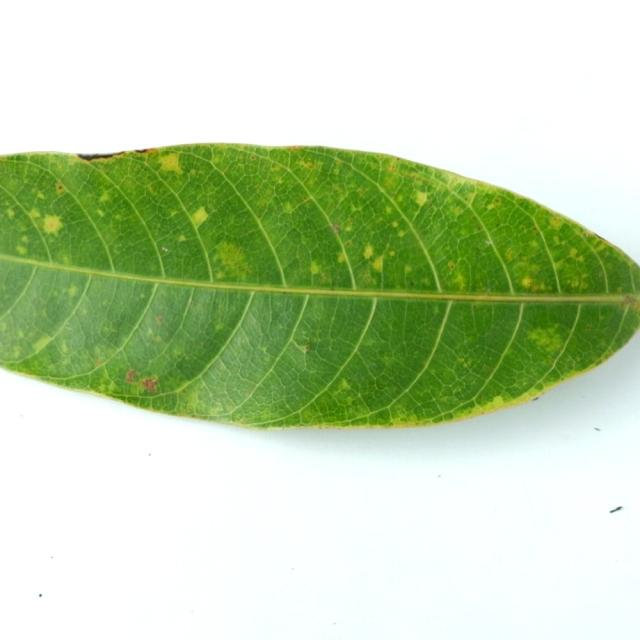Mango: (0, 145, 639, 426)
Powdery_Mildew: (168, 331, 231, 384), (212, 240, 252, 277), (526, 325, 562, 351), (157, 153, 183, 173), (181, 387, 202, 411), (41, 214, 64, 234), (484, 395, 510, 412), (619, 293, 640, 313), (32, 334, 54, 353), (190, 206, 209, 227), (368, 251, 387, 271), (450, 270, 468, 291), (101, 320, 121, 336), (413, 189, 428, 206), (142, 378, 158, 392), (403, 410, 420, 423), (134, 147, 161, 155), (98, 190, 111, 204), (297, 340, 312, 352), (338, 378, 351, 391), (362, 245, 374, 259), (310, 260, 321, 275), (379, 353, 394, 364), (520, 276, 533, 288), (15, 244, 28, 256), (171, 346, 184, 358), (125, 369, 136, 383), (110, 318, 124, 329), (29, 208, 41, 220), (550, 216, 562, 228), (67, 284, 78, 297), (282, 202, 295, 213), (336, 252, 347, 264), (504, 249, 515, 261), (568, 247, 578, 258), (486, 201, 497, 211), (214, 321, 225, 331), (12, 347, 22, 358), (343, 396, 355, 405), (331, 223, 340, 235), (285, 146, 305, 151), (6, 208, 15, 219), (152, 334, 163, 343), (586, 232, 598, 240), (404, 264, 413, 274), (155, 315, 164, 325), (302, 161, 313, 169), (259, 344, 268, 353), (177, 234, 186, 242), (397, 230, 406, 238), (96, 209, 105, 217), (168, 210, 178, 217), (344, 224, 352, 232), (448, 262, 456, 270), (616, 286, 624, 294), (391, 221, 399, 228), (572, 279, 579, 287), (37, 192, 45, 199), (333, 185, 341, 192), (389, 164, 396, 172), (95, 359, 102, 367), (531, 226, 538, 233), (57, 184, 64, 191), (583, 231, 590, 238), (388, 250, 395, 256), (520, 226, 527, 232), (476, 180, 483, 186), (484, 240, 491, 246), (0, 157, 8, 162), (494, 198, 500, 204), (345, 241, 351, 247), (250, 154, 256, 160), (475, 226, 481, 232), (302, 196, 308, 202), (480, 410, 486, 415), (409, 281, 414, 286), (182, 389, 187, 394)
